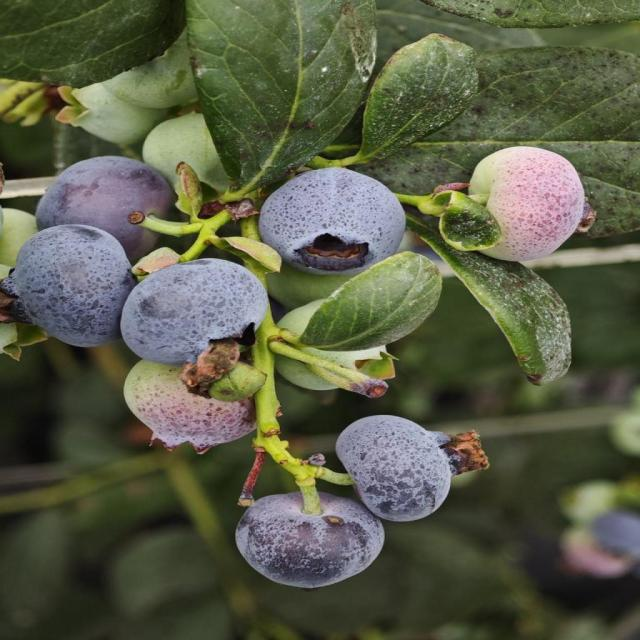RipeBlueBerry: (333, 412, 486, 520), (236, 493, 388, 591), (124, 259, 259, 368), (264, 168, 407, 270), (13, 230, 129, 352)
Semi-RipeBlueBerry: (468, 146, 591, 256)
